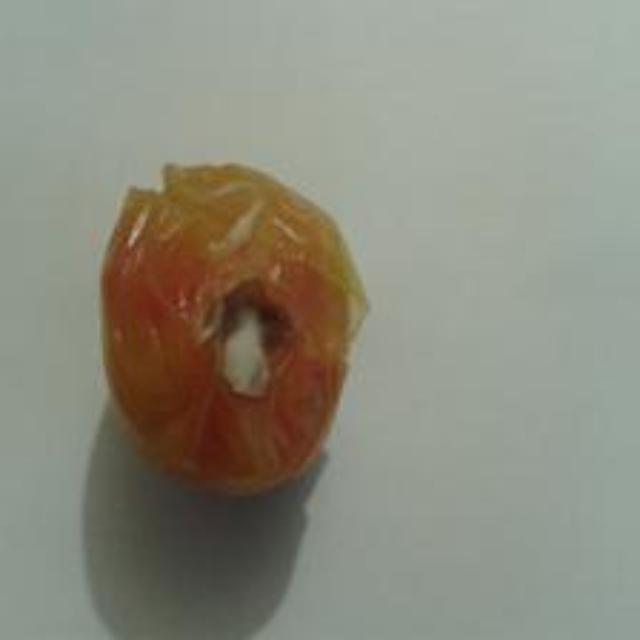defect: (80, 151, 393, 508)
